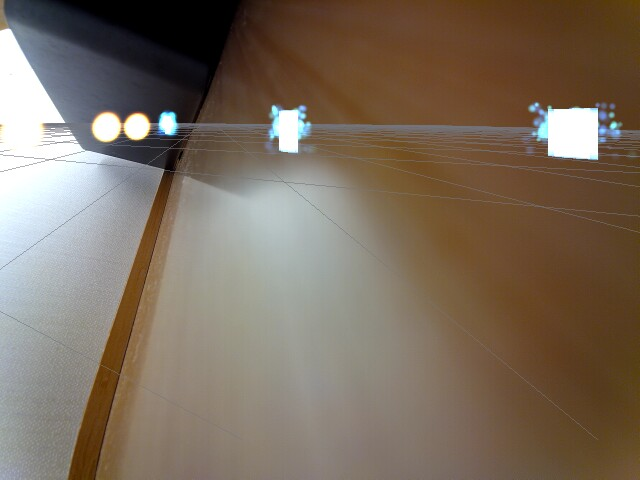fire: (2, 94, 56, 168), (121, 111, 154, 144), (93, 111, 123, 141)
